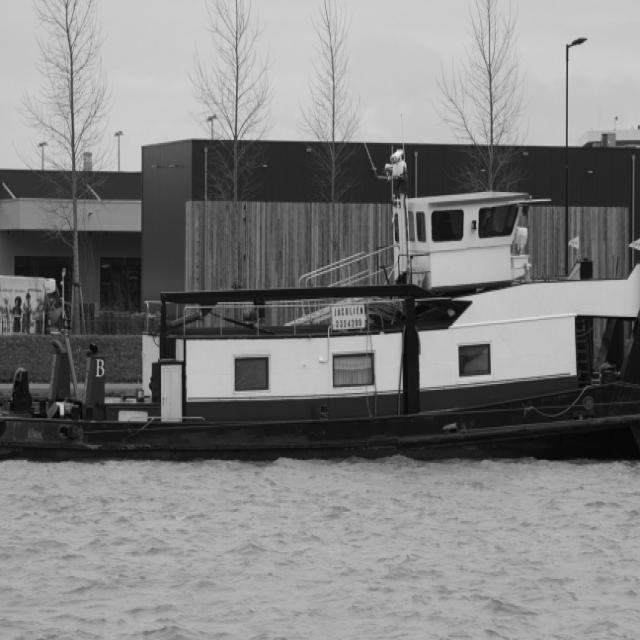tugboat: (1, 148, 640, 473)
